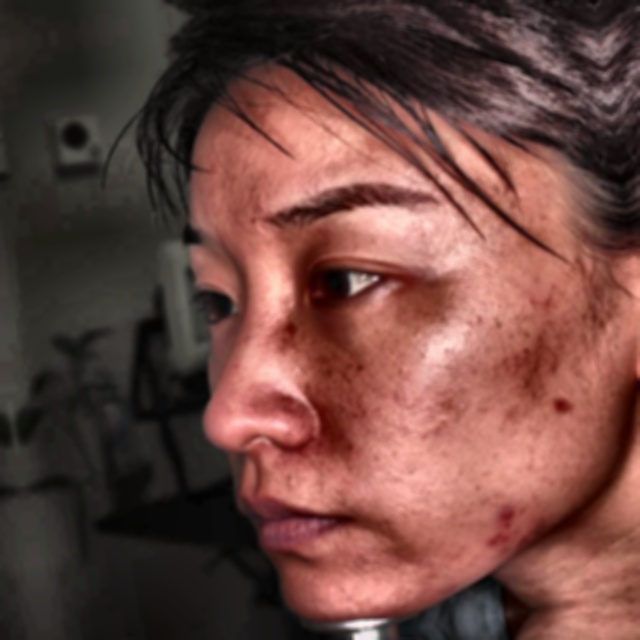comedone: (543, 389, 583, 424), (484, 523, 524, 557), (489, 497, 529, 528)
